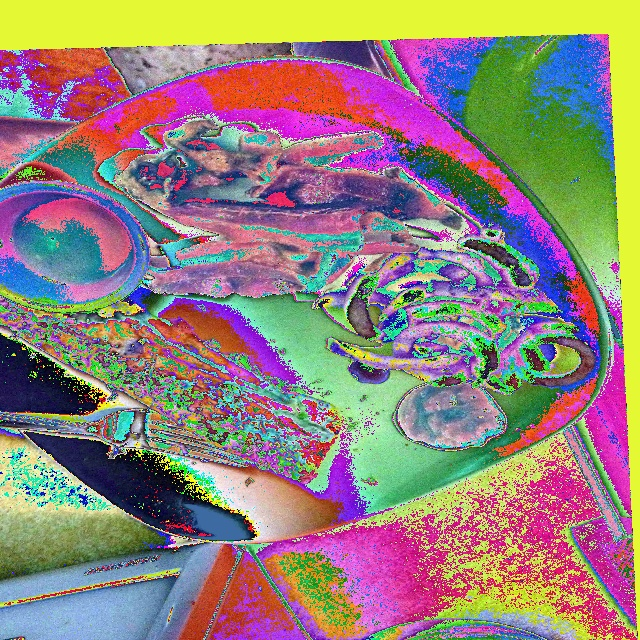background: (114, 120, 594, 451), (0, 189, 345, 484), (11, 86, 130, 285)
